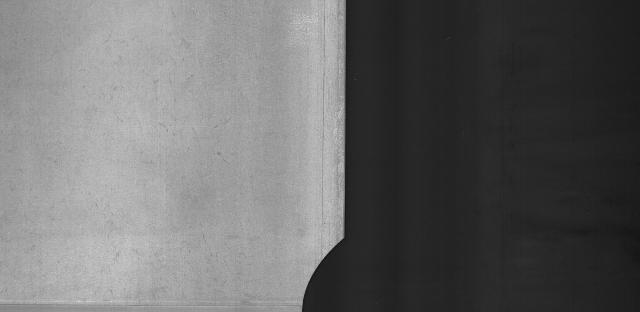welding_line: (1, 296, 322, 310)
